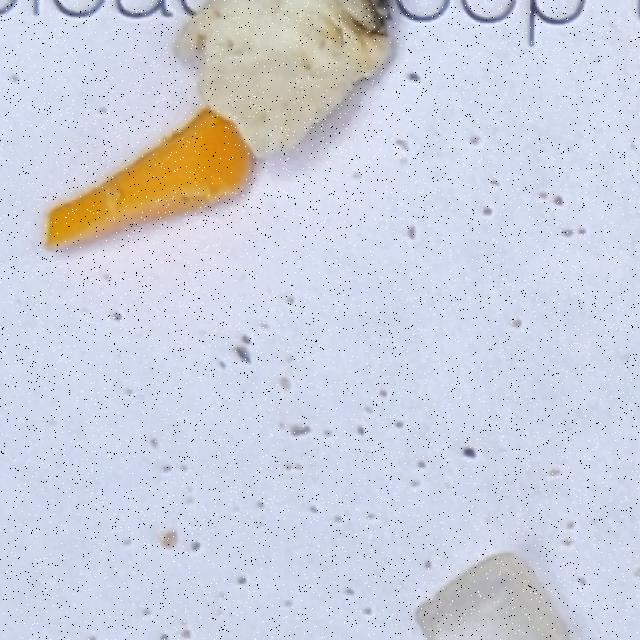fragments: (29, 99, 264, 298), (158, 0, 417, 170), (417, 554, 571, 640)
